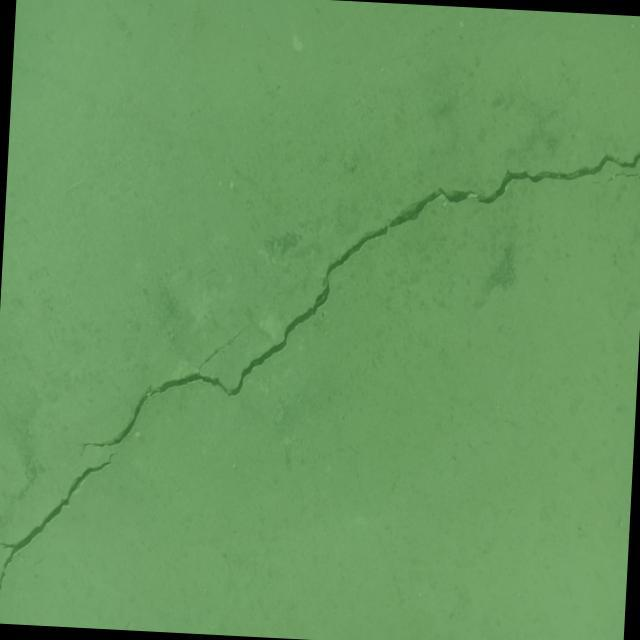crack: (0, 107, 640, 640), (591, 170, 640, 189)
